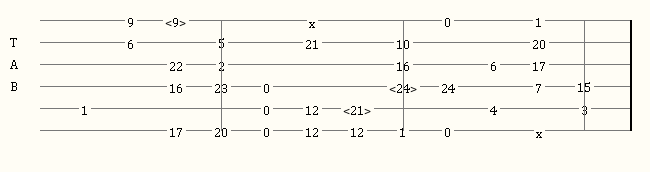0: (263, 102, 274, 115), (263, 80, 274, 93), (263, 124, 274, 137), (444, 124, 455, 137), (444, 14, 455, 27)
1: (81, 102, 92, 115), (399, 124, 410, 137), (535, 14, 546, 27)
10: (396, 36, 414, 49)
12: (305, 102, 323, 115), (305, 124, 323, 137), (350, 124, 368, 137)
15: (577, 79, 595, 93)
16: (169, 80, 187, 93), (396, 58, 414, 71)
17: (169, 124, 187, 137), (532, 58, 550, 71)
2: (218, 58, 229, 71)
20: (214, 124, 232, 137), (532, 36, 550, 49)
21: (305, 36, 323, 49)
22: (169, 58, 187, 71)
23: (214, 80, 232, 93)
24: (441, 80, 459, 93)
3: (581, 102, 592, 115)
4: (490, 102, 501, 115)
5: (218, 35, 229, 49)
6: (127, 36, 138, 49), (490, 58, 501, 71)
7: (535, 80, 546, 93)
9: (127, 14, 138, 27)
harmonic: (343, 102, 375, 115), (389, 80, 421, 93), (165, 14, 190, 27)
x: (309, 15, 319, 25), (536, 125, 546, 135)
